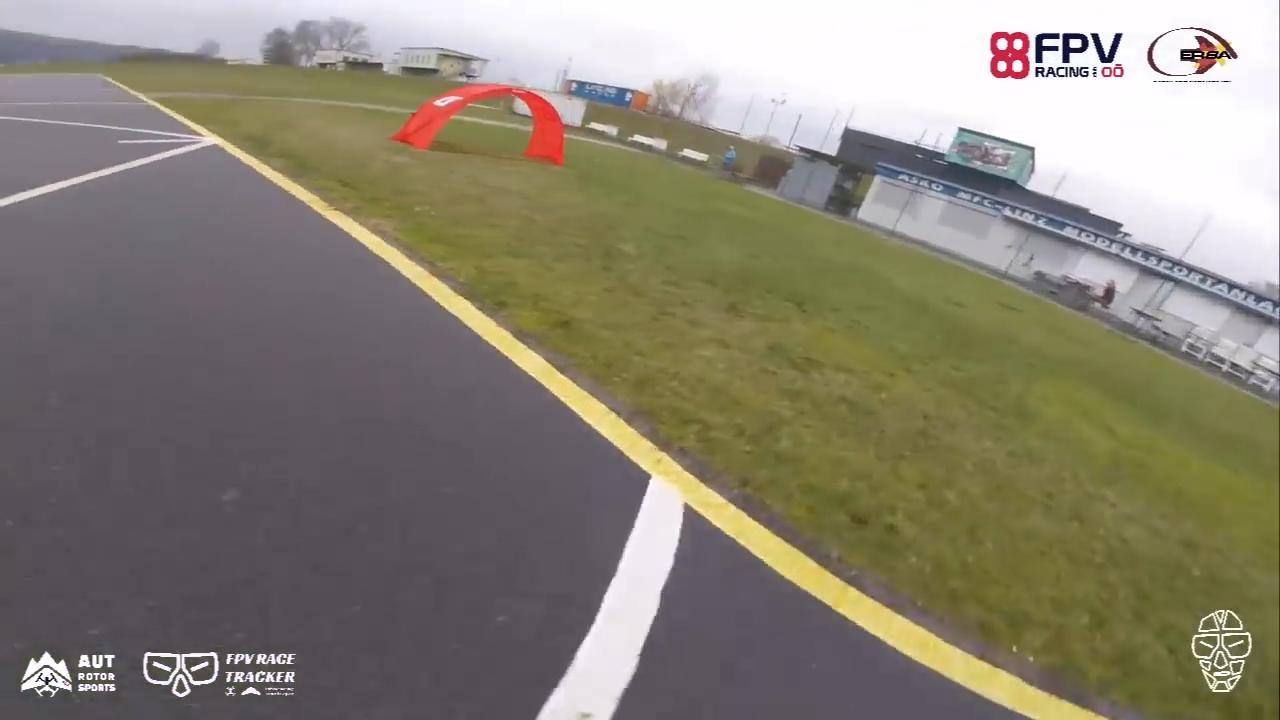gate: (387, 81, 570, 171)
